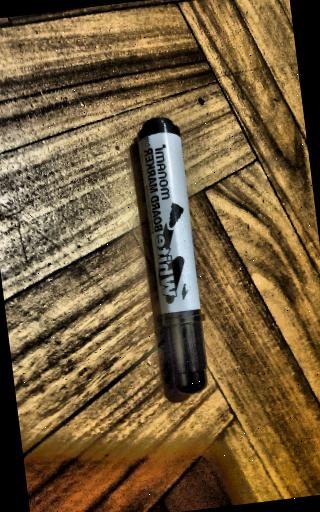marcador negro: (138, 117, 207, 394)
